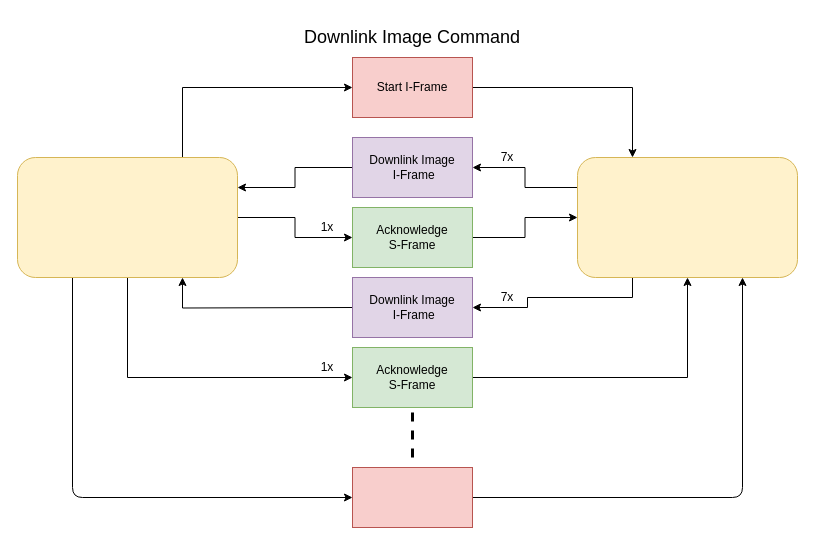
Some shapes in this 815 by 545 pixel diagram are drawn without their labels. The centre of each missing label's shape, as x and y in pixels:
"End Command Transmission S-Frame" goes at point (412, 497).
"Primary Station Western / Other Ground Station" goes at point (127, 217).
"Secondary Station Ukpik-1" goes at point (687, 217).
